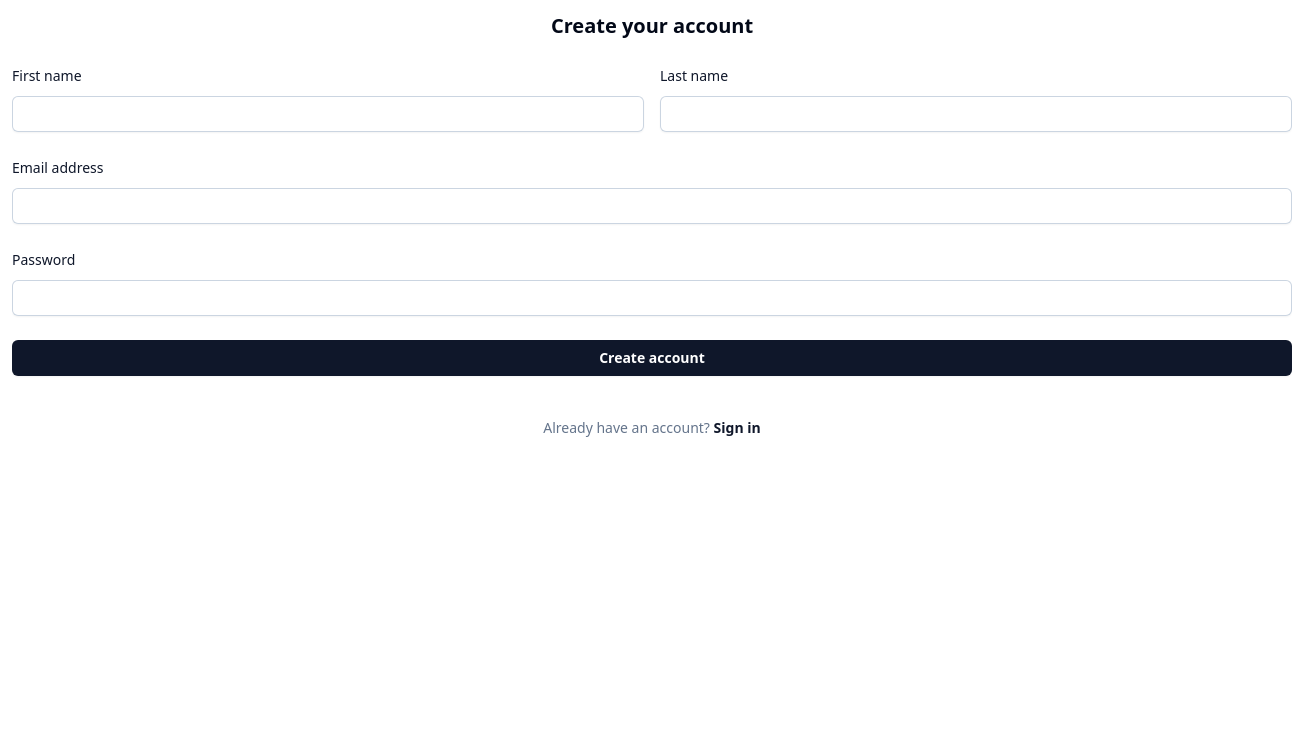
Test: Register Component › validates empty inputs on submit
Click the button "Create account": x=652, y=358 [12, 340, 1292, 376]
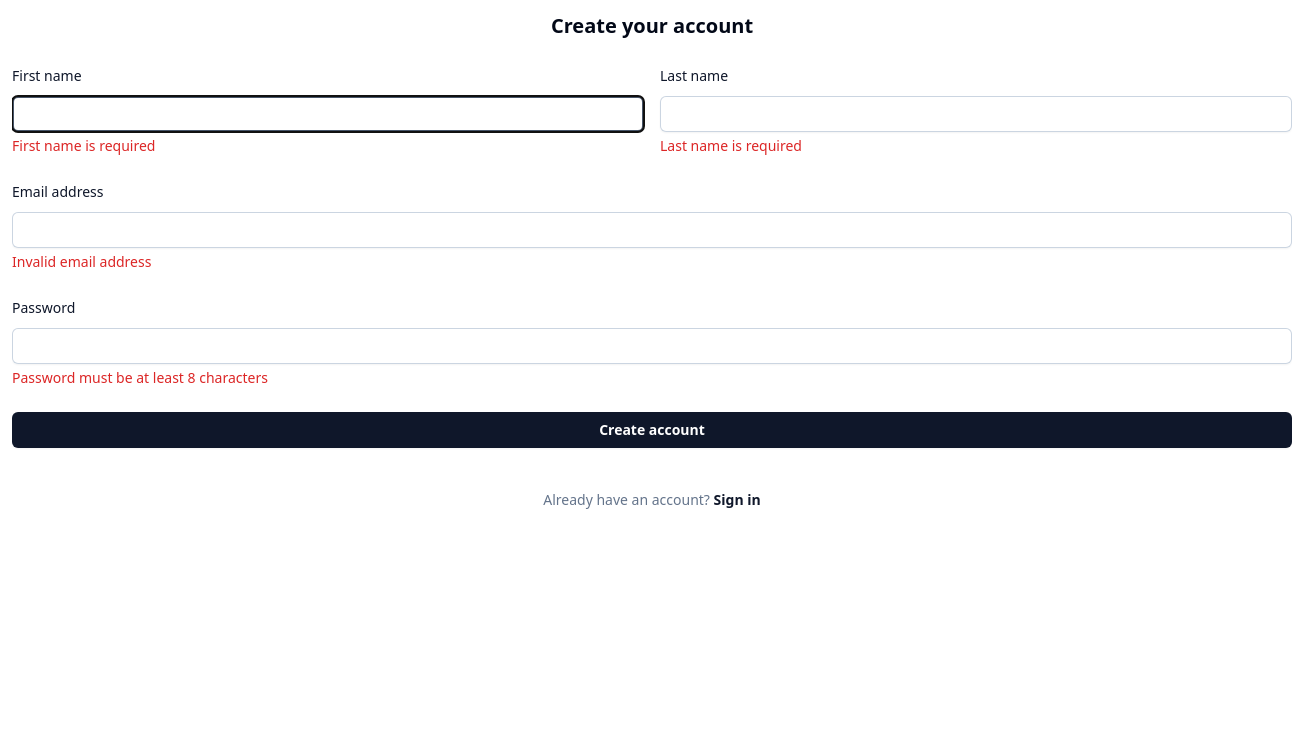
Result: the text "First name is required" is shown at [12, 136, 155, 155]
Result: the text "Last name is required" is shown at [660, 136, 802, 155]
Result: the text "Invalid email address" is shown at [12, 252, 151, 271]
